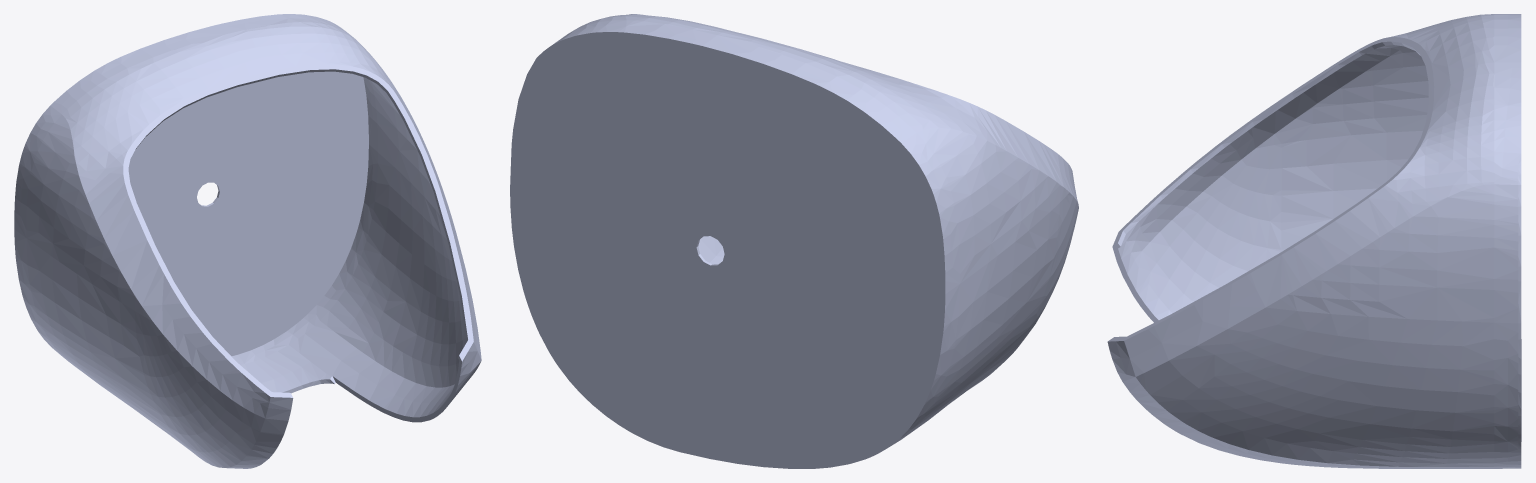
Rendered from right_hip_roll_link.dae.
The picture shows the model from 3 angles, left to right: view 1: azimuth 30°, elevation 25°; view 2: azimuth 150°, elevation 25°; view 3: azimuth 270°, elevation 25°; orthographic projection. The views are drawn at different scales.
Visible parts, largest first — view 1: right_hip_roll_link; view 2: right_hip_roll_link; view 3: right_hip_roll_link.
Boxes of the visible parts, x1=… form: right_hip_roll_link: x1=14, y1=14, x2=481, y2=468; right_hip_roll_link: x1=510, y1=14, x2=1078, y2=468; right_hip_roll_link: x1=1107, y1=14, x2=1521, y2=468.
Bounding box in the file's own units: 0.1418 × 0.1297 × 0.1267.
